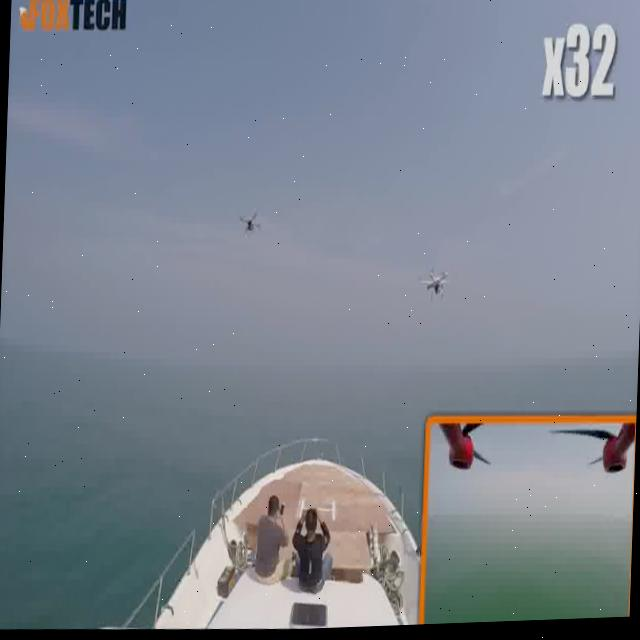drone: (411, 259, 454, 319), (234, 196, 266, 244)
